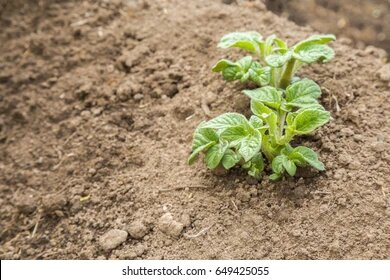potato_plant: (187, 29, 337, 180)
